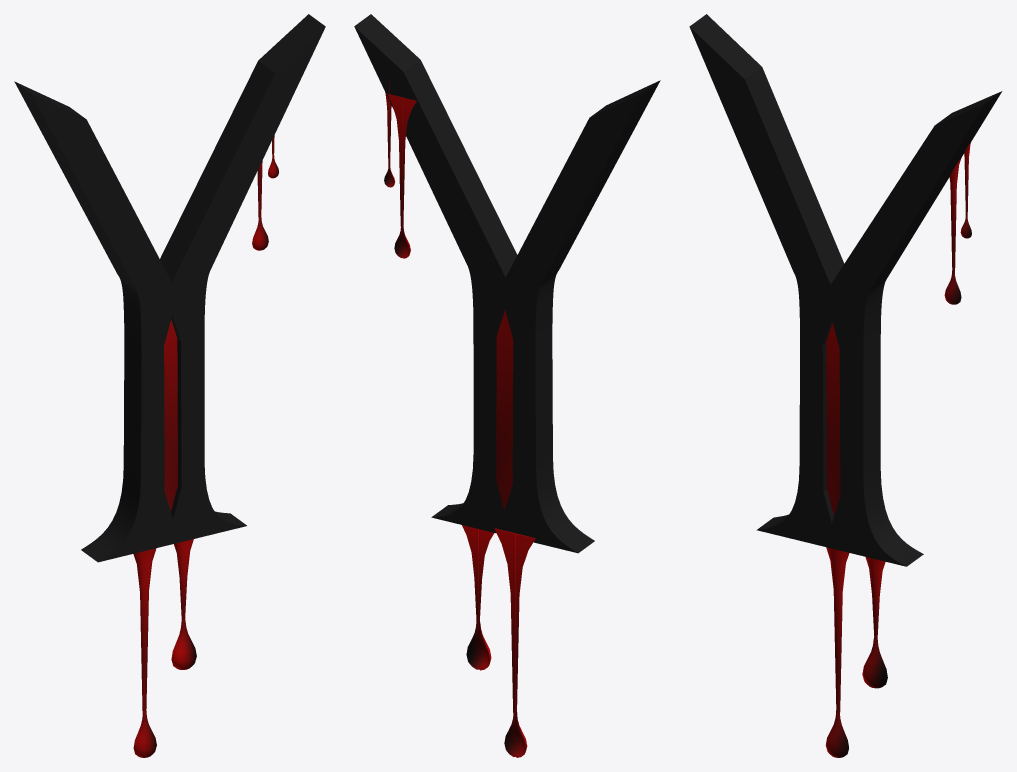
3 views of the same model, side by side, from view 1: azimuth 30°, elevation 25°; view 2: azimuth 150°, elevation 25°; view 3: azimuth 330°, elevation 25° (orthographic). The views are drawn at different scales.
Visible parts, largest first — view 1: Y, Y_Element, Blood_031, Blood_029, Blood_111; view 2: Y, Y_Element, Blood_031, Blood_029, Blood_111; view 3: Y, Y_Element, Blood_031, Blood_029, Blood_111.
Boxes of the visible parts, x1,y1,x2,y2 form: Y: [14, 14, 325, 562]; Y_Element: [164, 320, 177, 511]; Blood_031: [133, 548, 156, 757]; Blood_029: [171, 539, 196, 669]; Blood_111: [252, 161, 268, 250]; Y: [354, 14, 660, 553]; Y_Element: [496, 310, 513, 510]; Blood_031: [494, 528, 535, 757]; Blood_029: [462, 525, 494, 670]; Blood_111: [387, 93, 416, 258]; Y: [689, 14, 1002, 566]; Y_Element: [826, 322, 840, 515]; Blood_031: [825, 547, 849, 757]; Blood_029: [862, 557, 887, 688]; Blood_111: [944, 158, 961, 304].
Bounding box in the file's own units: 49.47 × 114 × 5.16.
Materials: 2 (1 with a texture image).
